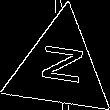N_W: (33, 45, 86, 91)
